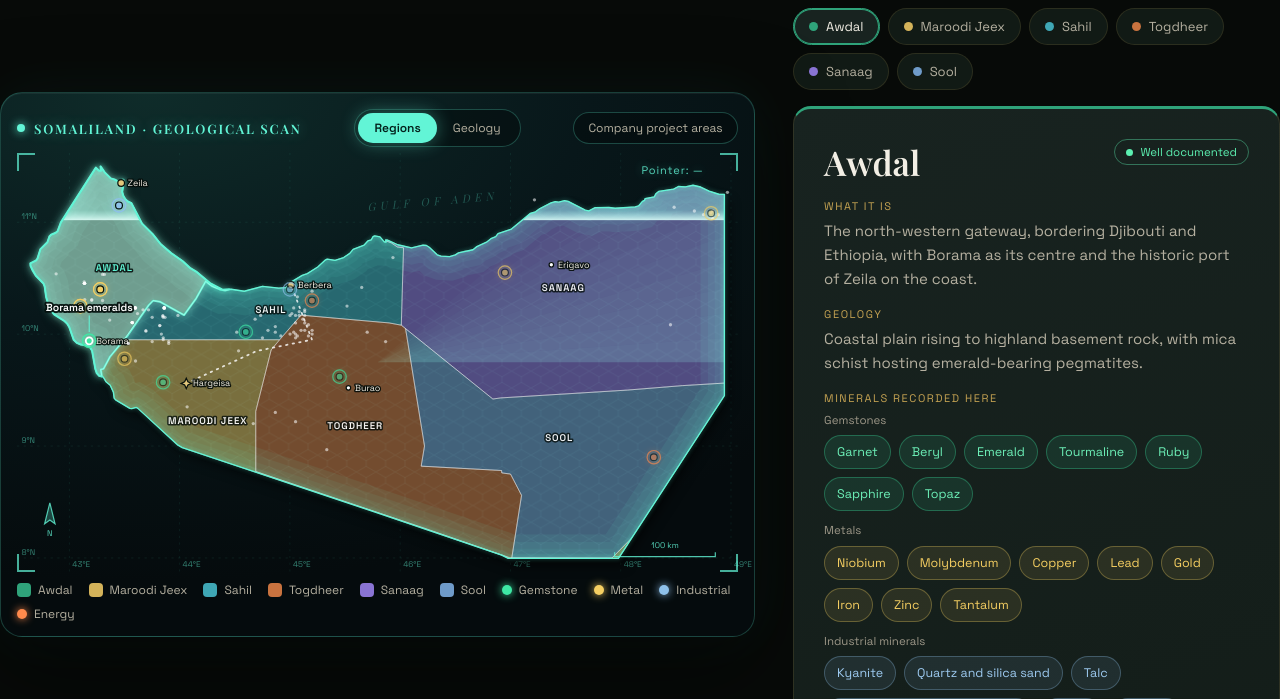
Test: SomalilandMap › switches between the regions and geology layers
Click the button "Geology". click: (477, 128)
box: [437, 113, 517, 143]
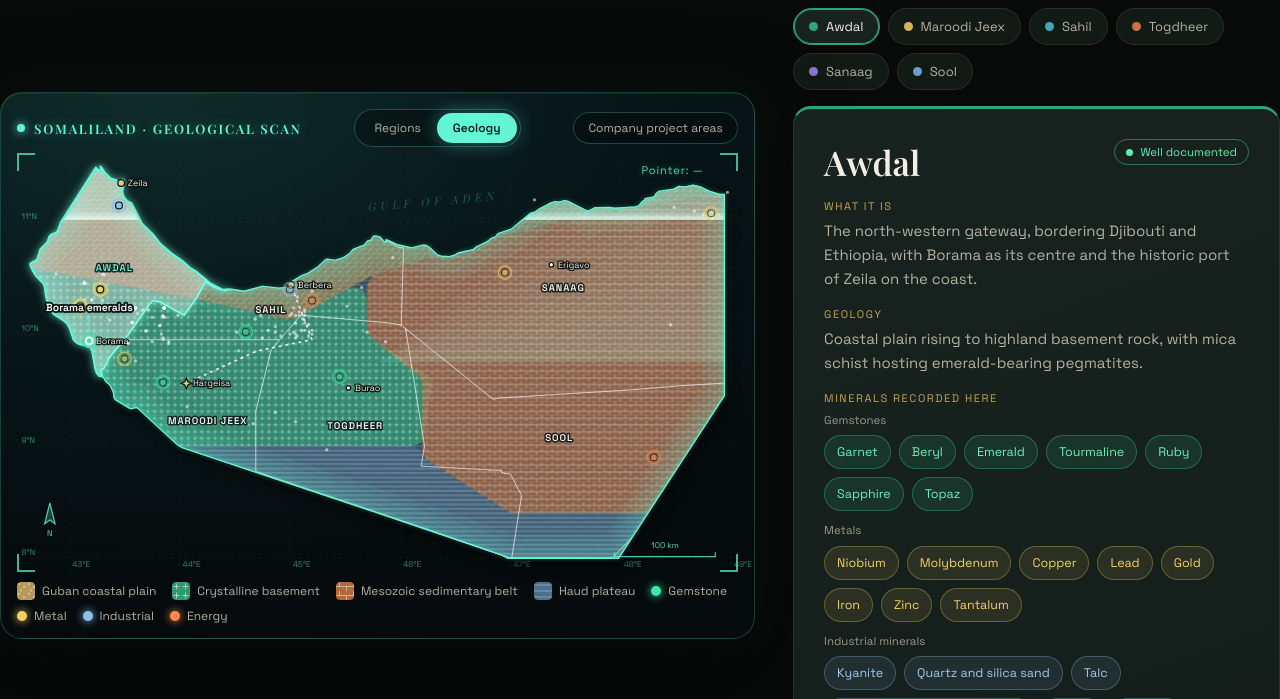
Check: the text "Crystalline basement" is shown, box [172, 582, 320, 600]
